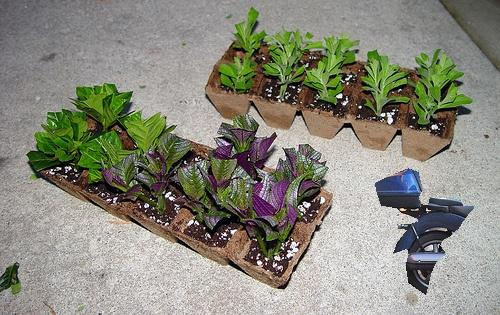tampered: (376, 169, 474, 295)
